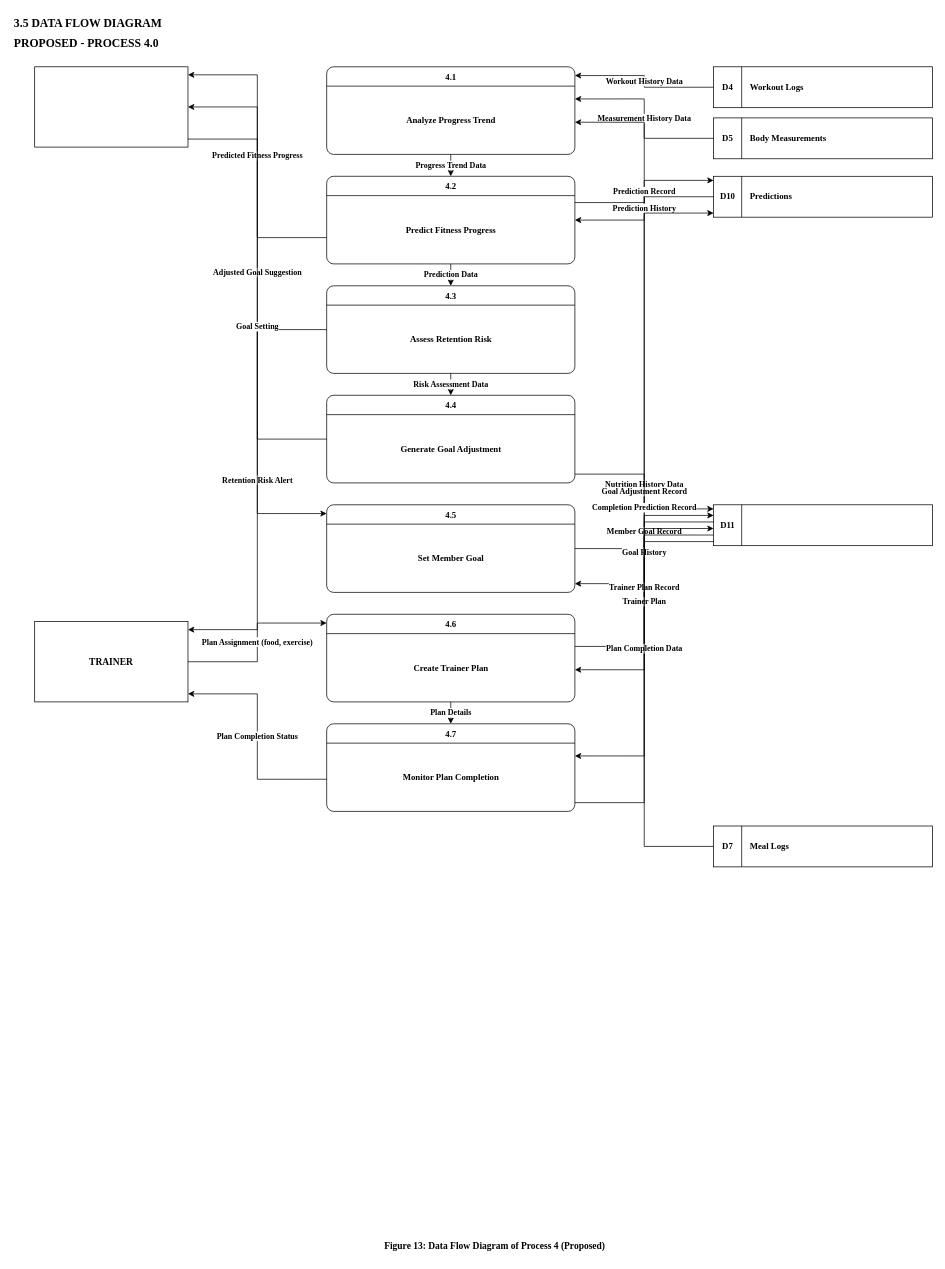
Image size: 945x1269. Some labels were removed from this diagram. The shapes that lost their labels are listed below. From the top down, each one's box as (x1, y1, x2, y2) in pixels, then its label:
(34, 66, 188, 147): MEMBER
(713, 504, 933, 546): Goal Plans
